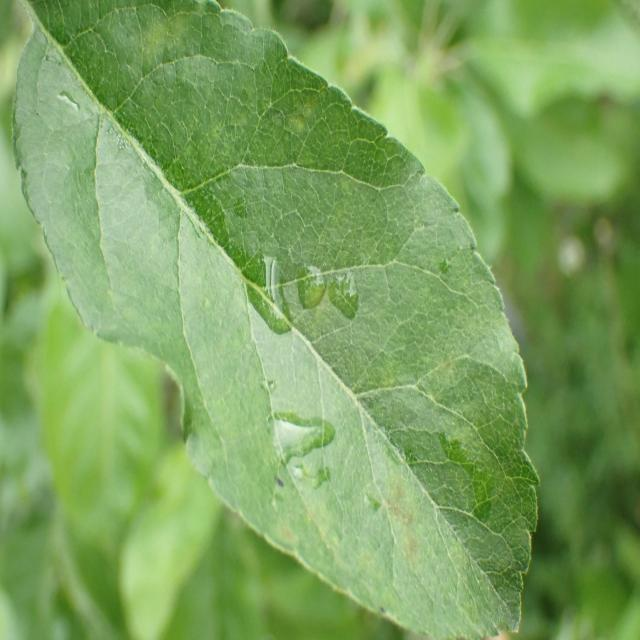scab: (79, 8, 462, 614)
